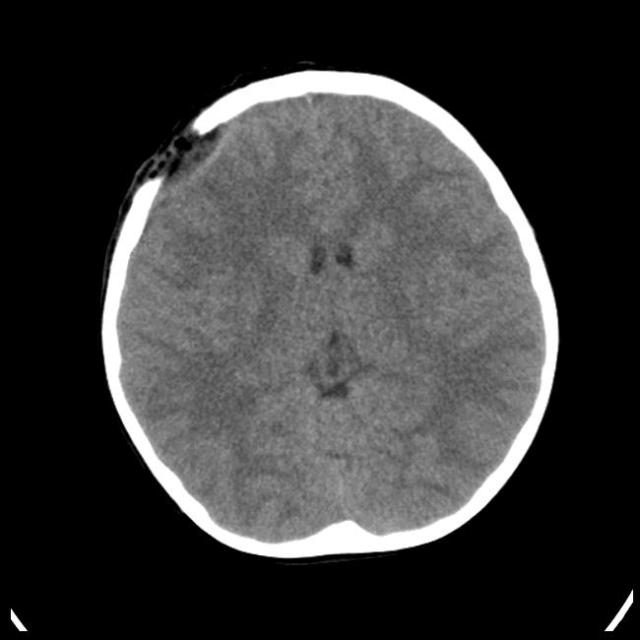lesion: (99, 68, 560, 558)
